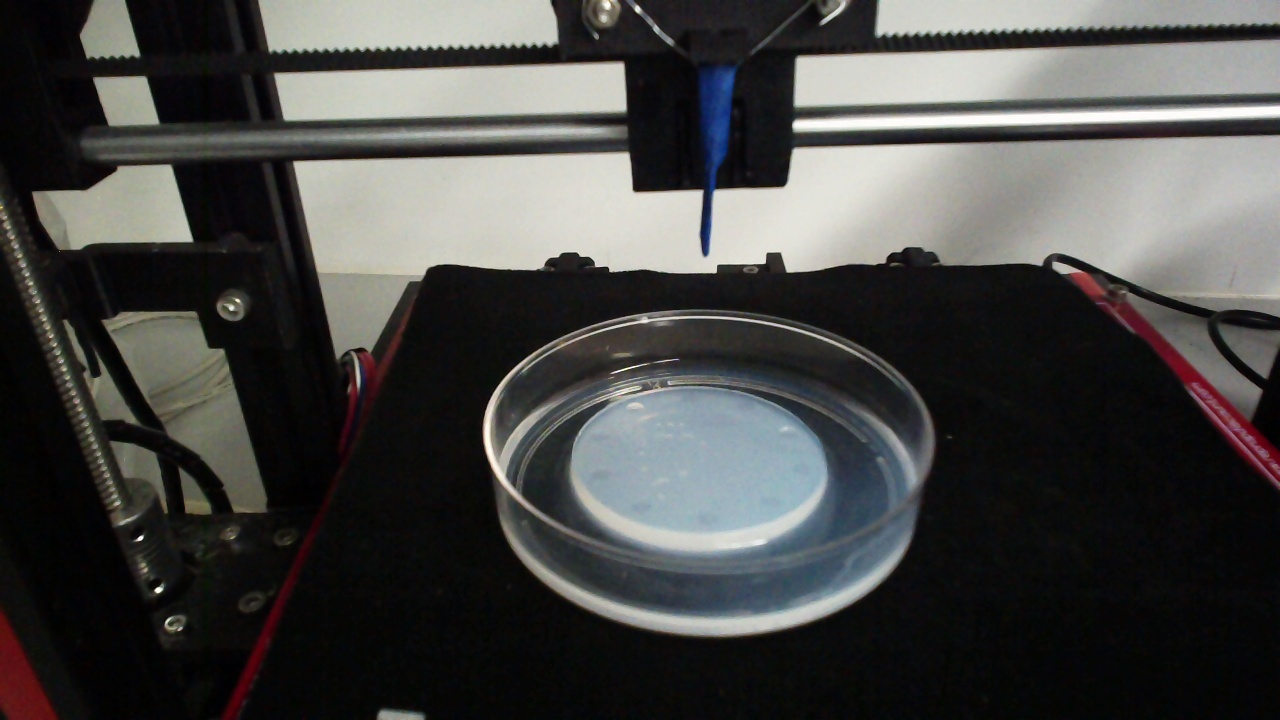groove: (734, 398, 758, 412), (790, 462, 812, 477), (590, 468, 613, 482), (623, 401, 644, 416), (631, 499, 652, 514), (759, 495, 781, 509), (777, 426, 799, 440), (698, 511, 718, 525), (590, 430, 610, 443), (679, 393, 700, 405)
needle: (699, 66, 734, 256)
